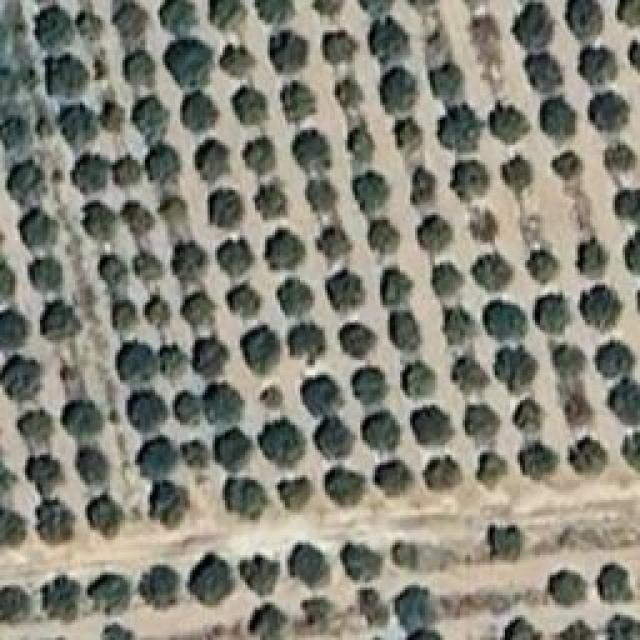Tree: (165, 40, 214, 90), (188, 553, 234, 606), (257, 417, 305, 467), (438, 102, 484, 152), (495, 345, 538, 393), (240, 325, 280, 375), (513, 3, 554, 51), (580, 285, 623, 330), (0, 355, 41, 402), (60, 103, 100, 151), (370, 18, 410, 65), (150, 483, 189, 530), (8, 160, 47, 207), (113, 0, 148, 52), (290, 542, 330, 587), (133, 95, 169, 145), (380, 68, 418, 115), (88, 573, 131, 614), (138, 438, 179, 481), (485, 300, 528, 341), (395, 585, 440, 624), (42, 575, 80, 621), (37, 500, 75, 546), (140, 565, 180, 608), (303, 375, 343, 418), (48, 55, 88, 98), (35, 5, 73, 50), (590, 93, 631, 134), (240, 555, 280, 597), (228, 478, 268, 520), (128, 390, 168, 432), (293, 130, 333, 172), (315, 415, 354, 458), (270, 30, 309, 73), (87, 494, 125, 538), (518, 440, 559, 480), (63, 400, 104, 440), (40, 300, 81, 340), (265, 230, 305, 271), (490, 103, 529, 145), (215, 428, 253, 471), (207, 383, 245, 426), (414, 405, 454, 445), (578, 47, 618, 87), (327, 270, 365, 312), (352, 173, 390, 215), (182, 90, 220, 132), (607, 377, 640, 425), (363, 414, 402, 454), (450, 160, 489, 200), (73, 152, 112, 192), (118, 343, 159, 381), (473, 253, 514, 291), (595, 340, 635, 378), (287, 324, 325, 364), (217, 237, 255, 277), (20, 208, 58, 248), (25, 455, 61, 497), (193, 338, 229, 380), (540, 98, 576, 140), (173, 243, 208, 286), (570, 438, 609, 476), (280, 83, 316, 124), (145, 143, 180, 185), (452, 355, 490, 393), (525, 53, 563, 91), (548, 569, 587, 606), (328, 470, 367, 507), (597, 562, 633, 602), (423, 455, 463, 491), (195, 140, 229, 182), (430, 63, 464, 105), (375, 460, 413, 496), (353, 368, 389, 406), (278, 278, 314, 316), (418, 215, 454, 253), (567, 0, 602, 39), (210, 190, 244, 230), (345, 545, 381, 582), (550, 343, 586, 380), (250, 605, 288, 640), (535, 295, 570, 333), (233, 88, 268, 126), (75, 448, 109, 486), (340, 324, 378, 358), (380, 268, 413, 307), (578, 238, 609, 279), (18, 410, 54, 445), (228, 283, 263, 319), (318, 225, 353, 261), (163, 0, 198, 36), (183, 293, 217, 330), (255, 183, 289, 220), (243, 138, 276, 176), (323, 30, 358, 65), (465, 405, 499, 441), (123, 202, 157, 237), (0, 310, 29, 351), (368, 220, 401, 256), (503, 155, 534, 193), (30, 257, 64, 291), (403, 362, 436, 397), (528, 250, 561, 285), (220, 45, 255, 78), (473, 10, 505, 46), (478, 453, 509, 490), (443, 308, 473, 346), (85, 203, 115, 241), (393, 313, 422, 351), (433, 262, 464, 297), (0, 588, 30, 624), (360, 590, 388, 628), (347, 125, 375, 163), (563, 393, 593, 428), (513, 397, 543, 432), (98, 255, 128, 290), (490, 525, 519, 561), (308, 180, 339, 213), (210, 0, 245, 29), (605, 142, 638, 172), (0, 118, 30, 151), (160, 345, 188, 380), (173, 392, 203, 424), (0, 508, 25, 546), (413, 168, 438, 206), (282, 480, 312, 511), (133, 253, 163, 284), (553, 150, 584, 180), (113, 155, 142, 187), (128, 50, 153, 87), (145, 295, 171, 330), (335, 78, 364, 109), (255, 0, 294, 23), (615, 190, 640, 224), (607, 615, 640, 640), (78, 10, 104, 41), (503, 618, 539, 640), (113, 300, 138, 331), (100, 100, 124, 132), (473, 210, 496, 243), (160, 198, 189, 224), (560, 620, 596, 640), (622, 433, 640, 473), (305, 600, 331, 627), (398, 120, 421, 150), (625, 230, 640, 275), (393, 542, 416, 569), (0, 463, 16, 500), (0, 260, 16, 297), (0, 68, 19, 99), (183, 445, 206, 470), (103, 623, 136, 640), (260, 385, 283, 408), (405, 627, 445, 640), (360, 0, 394, 15), (620, 0, 640, 25), (315, 0, 343, 17), (35, 115, 53, 138), (627, 40, 640, 70), (20, 68, 36, 91), (408, 0, 438, 9), (98, 58, 109, 80)
